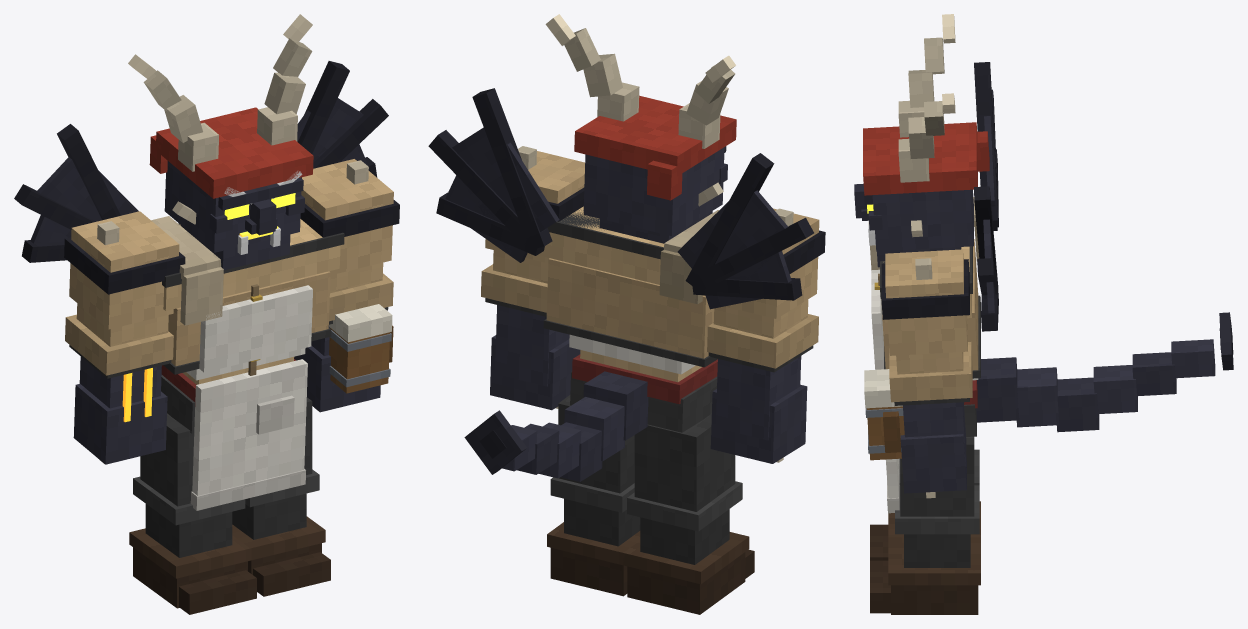
Rendered from demon_aubergiste_v3.glb.
The picture shows the model from 3 angles, left to right: view 1: azimuth 30°, elevation 25°; view 2: azimuth 150°, elevation 25°; view 3: azimuth 270°, elevation 25°; orthographic projection. The views are drawn at different scales.
Parts seen in each view (by area): view 1: Torso, Head, ArmR, LegR, ArmL, LegL, HandL; view 2: Torso, Head, LegR, ArmR, ArmL, LegL; view 3: Torso, ArmL, Head, LegL, HandL, LegR.
Part boxes in pixels (x1,y1,x2,y2): Torso: [14, 61, 388, 510]; Head: [128, 14, 313, 270]; ArmR: [64, 211, 185, 464]; LegR: [129, 413, 256, 614]; ArmL: [294, 159, 399, 412]; LegL: [232, 397, 330, 596]; HandL: [329, 304, 393, 393]; Torso: [428, 88, 813, 481]; Head: [545, 14, 736, 243]; LegR: [623, 413, 754, 614]; ArmR: [707, 208, 825, 463]; ArmL: [481, 146, 584, 410]; LegL: [547, 395, 640, 596]; Torso: [868, 62, 1233, 513]; ArmL: [881, 249, 972, 498]; Head: [854, 14, 989, 267]; LegL: [870, 436, 980, 614]; HandL: [864, 369, 904, 460]; LegR: [870, 449, 980, 560].
Bounding box in the file's own units: 1.58 × 2.2 × 1.44.
Materials: 43 (43 with a texture image).
